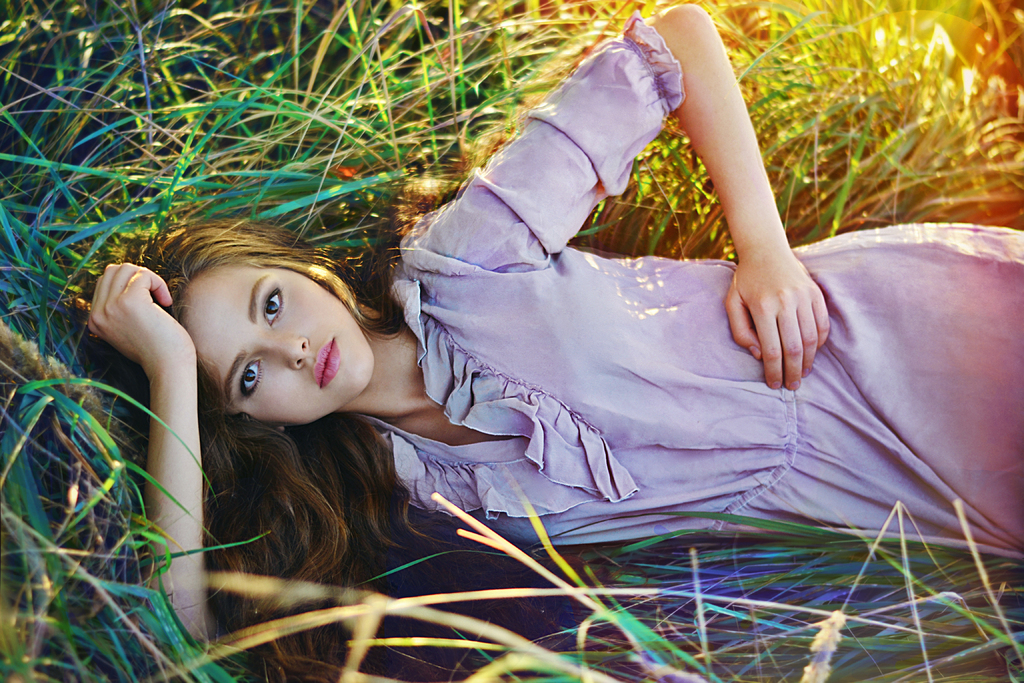Human-face: (209, 258, 394, 432)
